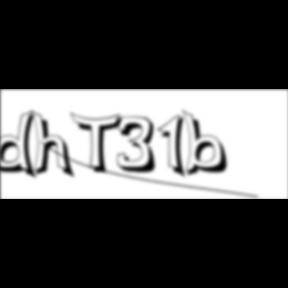1: (156, 114, 191, 182)
3: (117, 116, 163, 176)
T: (70, 112, 128, 176)
b: (181, 109, 234, 179)
d: (1, 110, 44, 182)
h: (31, 108, 78, 182)
